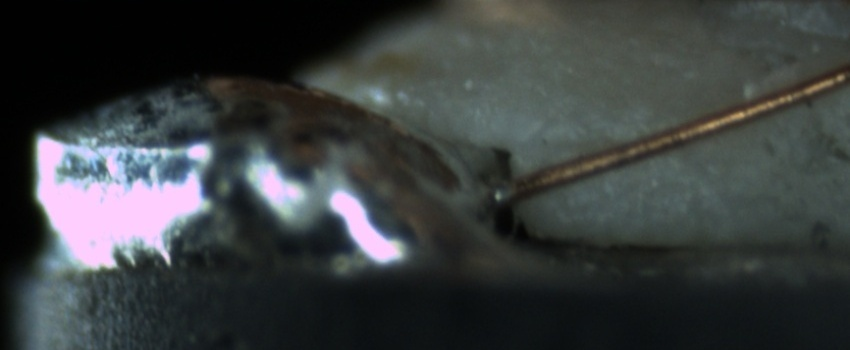DL: (528, 111, 670, 166)
